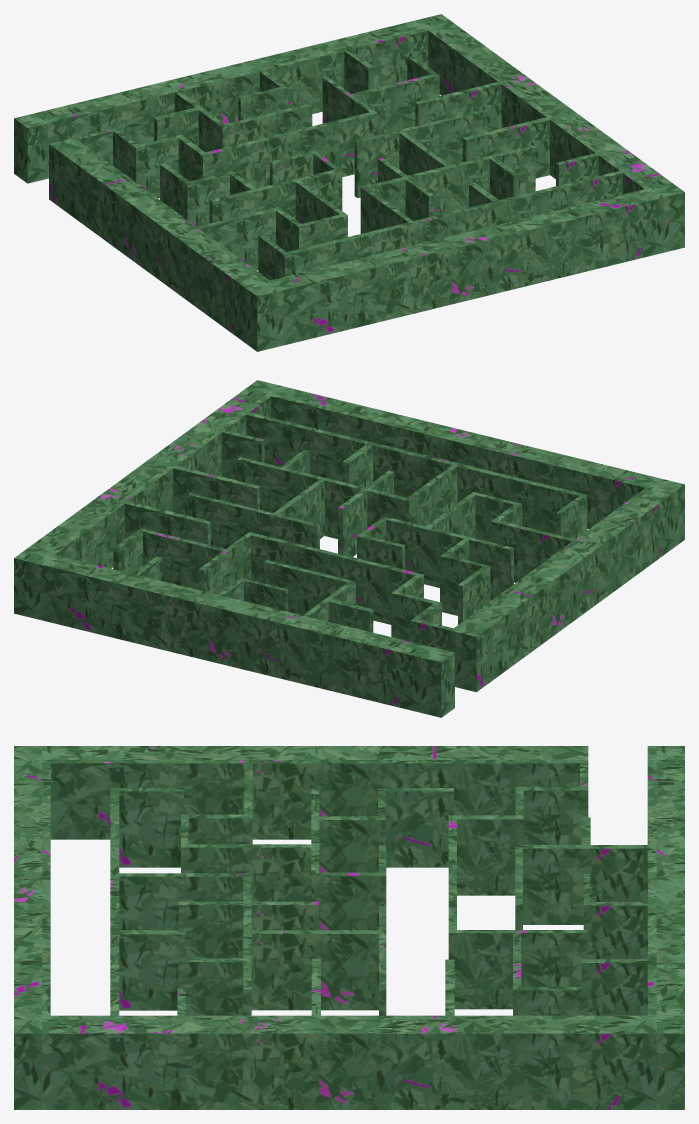
Rendered from Maze3.fbx.
3 views of the same model, one above another, from view 1: azimuth 30°, elevation 25°; view 2: azimuth 150°, elevation 25°; view 3: azimuth 270°, elevation 25° (orthographic). The views are drawn at different scales.
Parts seen in each view (by area): view 1: Maze3; view 2: Maze3; view 3: Maze3.
Boxes of the visible parts, x1,y1,x2,y2 form: Maze3: (14, 14, 684, 351); Maze3: (14, 380, 684, 717); Maze3: (14, 746, 684, 1109).
Bounding box in the file's own units: 111 × 13.71 × 109.
